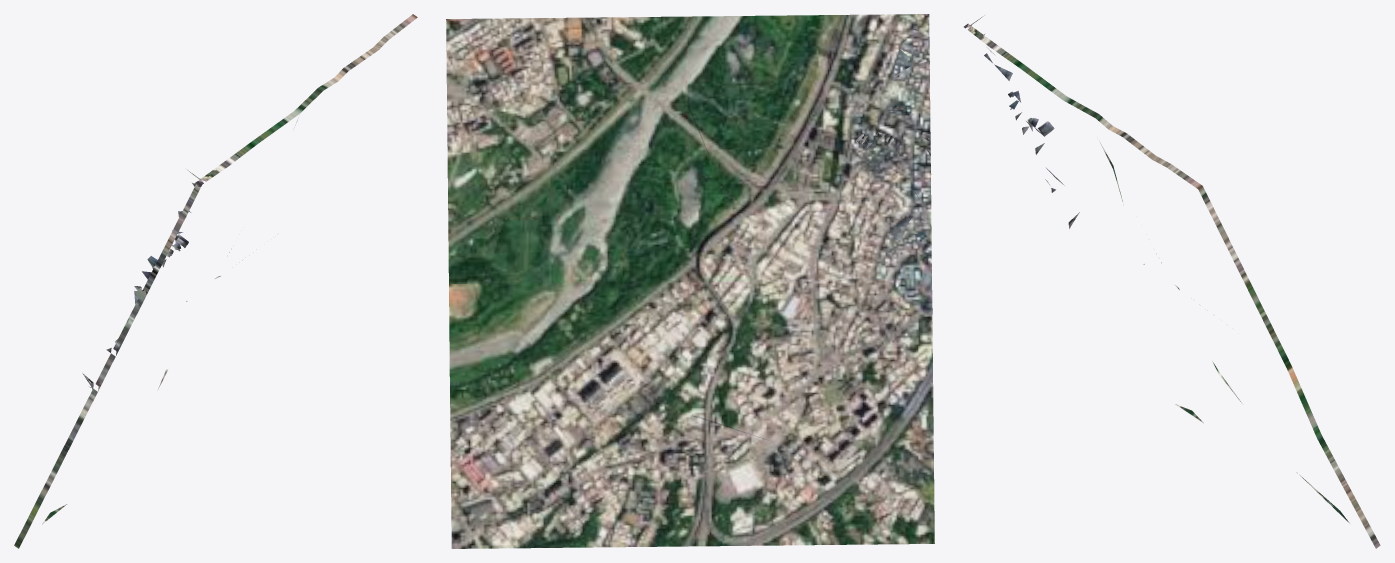
The picture shows the model from 3 angles, left to right: view 1: azimuth 30°, elevation 25°; view 2: azimuth 150°, elevation 25°; view 3: azimuth 270°, elevation 25°; orthographic projection. The views are drawn at different scales.
Size of the model in its own units: 2445 by 2262 by 2059.
Materials: 1 (1 with a texture image).
